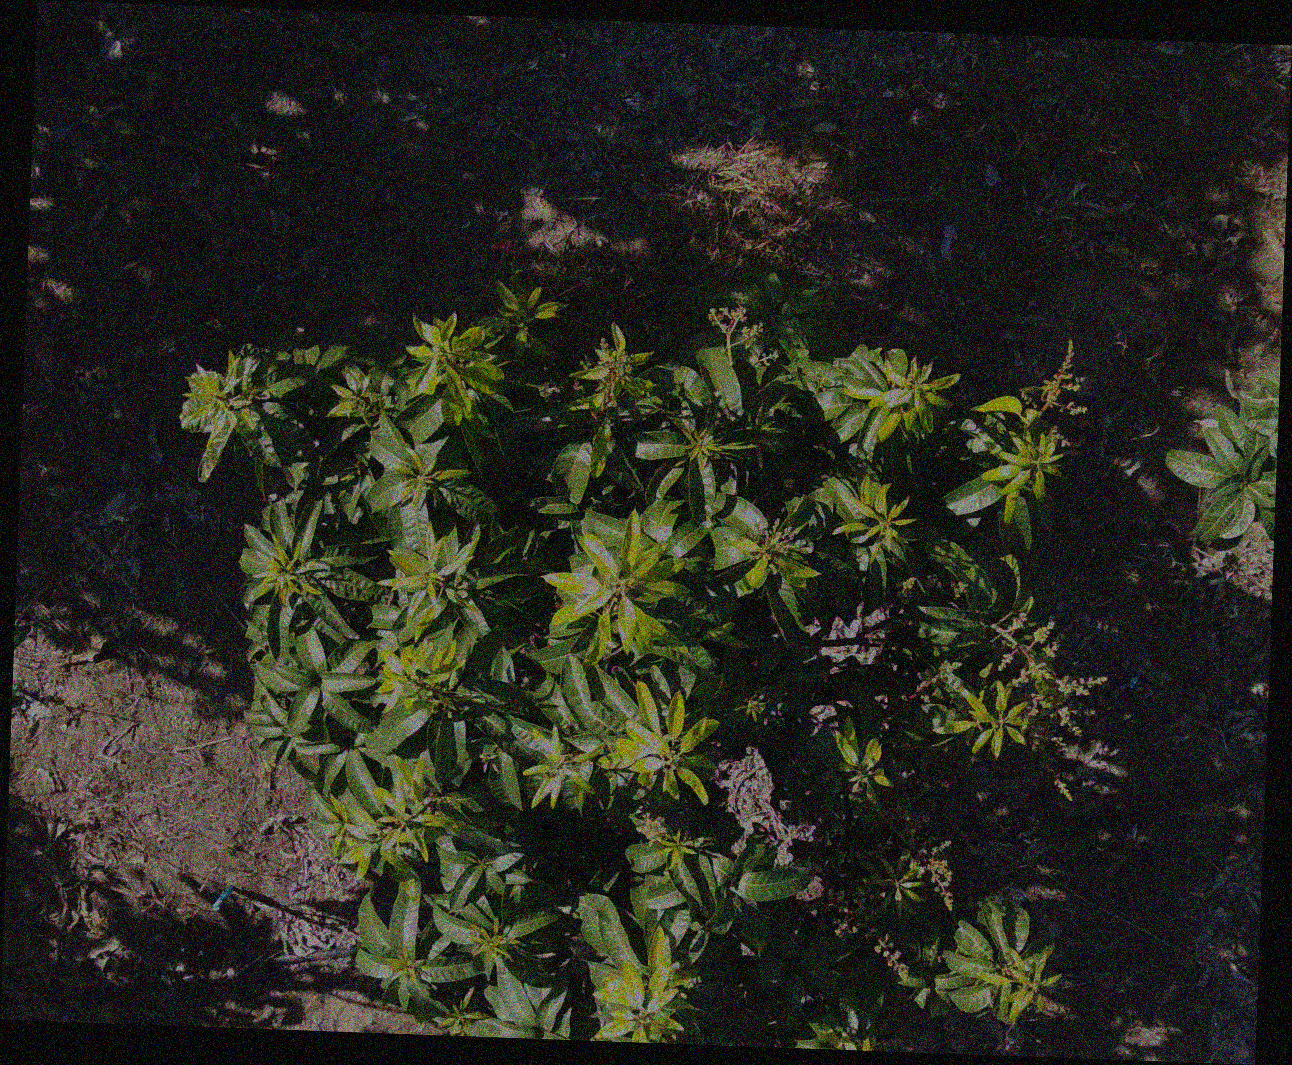flowers: (978, 598, 1100, 745), (571, 325, 649, 478), (1191, 522, 1274, 602), (1021, 341, 1088, 417), (707, 305, 763, 365), (909, 661, 961, 701), (873, 936, 909, 984), (875, 692, 889, 709)
